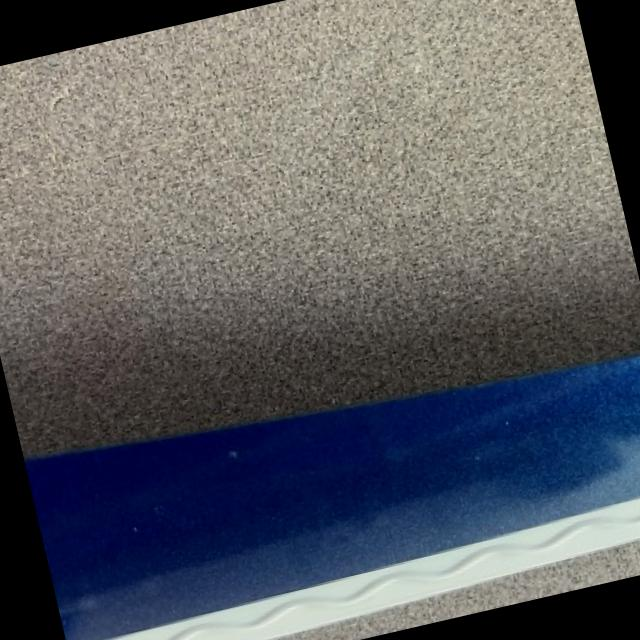healthy: (0, 0, 640, 454), (278, 538, 640, 640)
